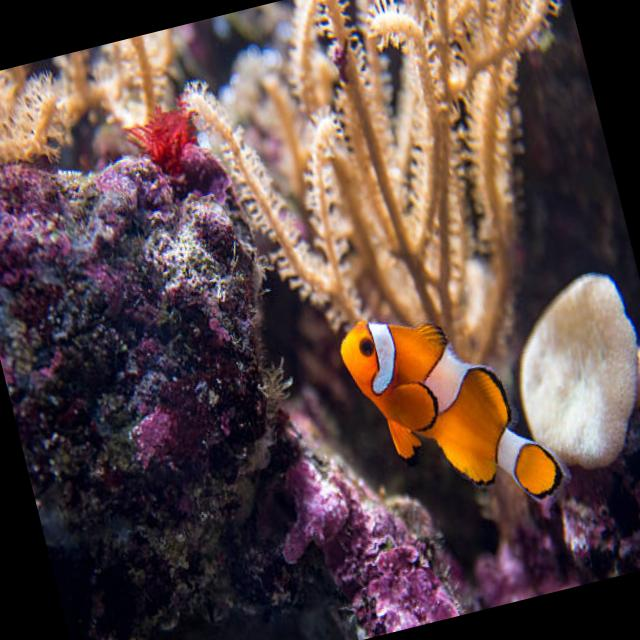ClownFish: (336, 286, 570, 538)
